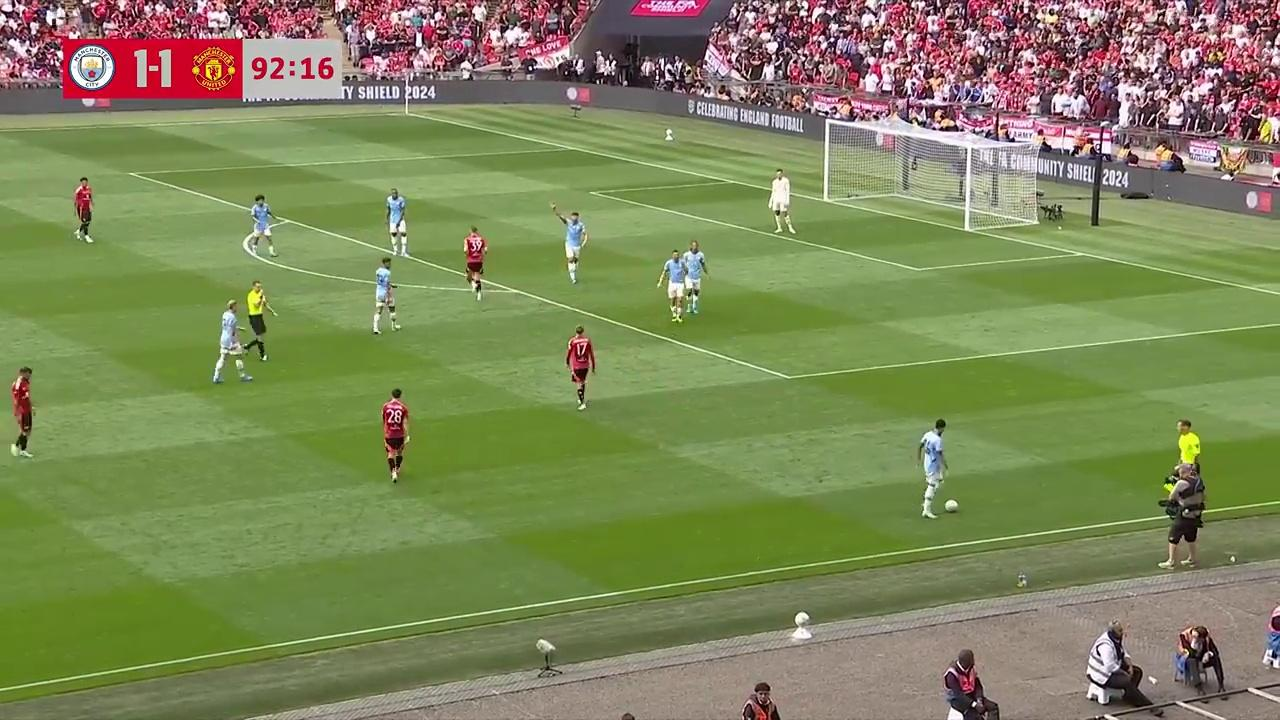ball: (943, 497, 959, 512)
player: (917, 419, 951, 518), (211, 299, 250, 384), (381, 388, 410, 482), (566, 325, 596, 410), (657, 249, 689, 322), (10, 366, 35, 459), (372, 257, 401, 335), (245, 194, 276, 258), (462, 226, 488, 302), (683, 240, 708, 315), (768, 168, 795, 237), (563, 209, 587, 284), (384, 187, 409, 257), (73, 176, 94, 243)
referee: (245, 280, 275, 361), (1176, 419, 1200, 471)
